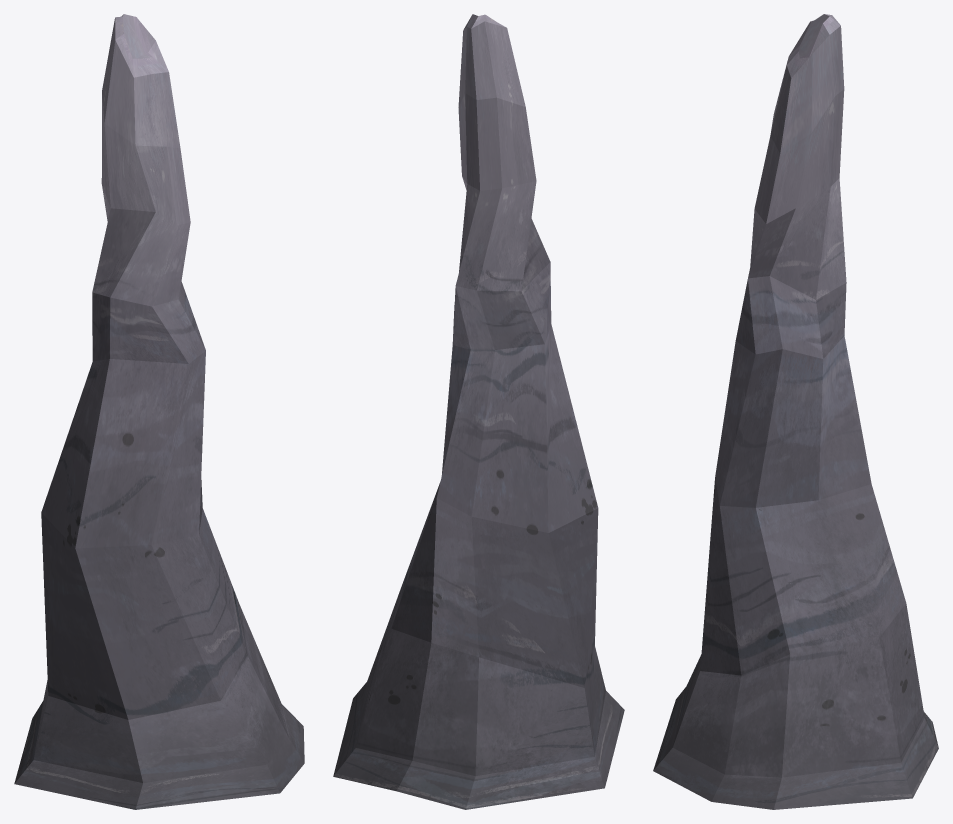
File: spire_1_003.fbx
The picture shows the model from 3 angles, left to right: view 1: azimuth 30°, elevation 25°; view 2: azimuth 150°, elevation 25°; view 3: azimuth 270°, elevation 25°; orthographic projection. The views are drawn at different scales.
Visible parts, largest first — view 1: spire 1.003; view 2: spire 1.003; view 3: spire 1.003.
Boxes of the visible parts, bbox=[...] form: spire 1.003: bbox=[14, 14, 304, 809]; spire 1.003: bbox=[333, 14, 624, 809]; spire 1.003: bbox=[653, 14, 938, 809].
Bounding box in the file's own units: 614 × 1622 × 572.
